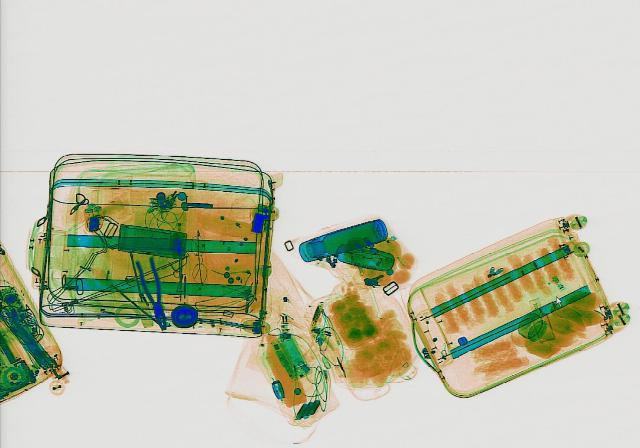Pliers: (130, 253, 176, 329)
